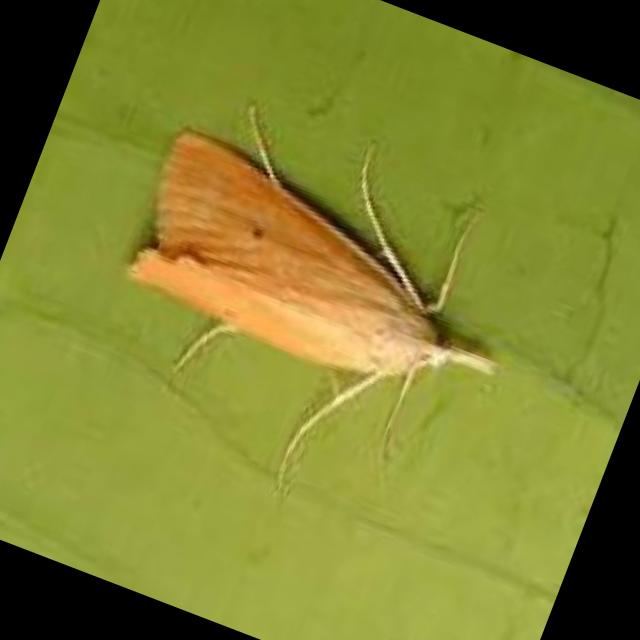stem-borer: (72, 75, 556, 534)
